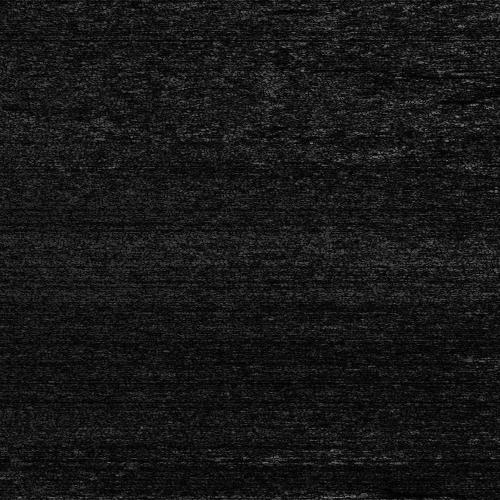object: (289, 489, 414, 498)
shadow: (352, 489, 431, 498)
